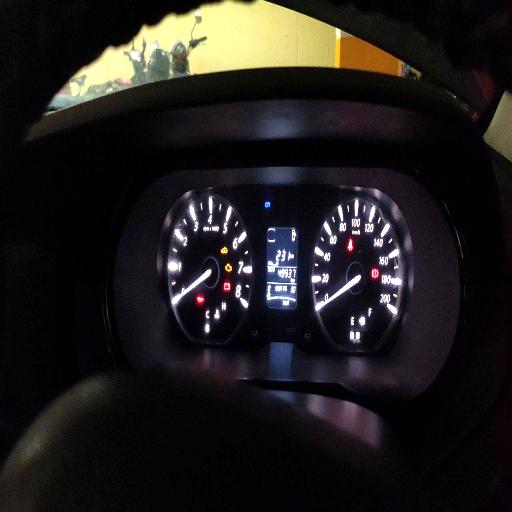belt: (347, 238, 353, 251)
brake_system_fault: (372, 268, 378, 278)
check_engine: (225, 263, 232, 272)
oil: (197, 296, 203, 303)
tachometer: (168, 193, 253, 336)
vehicle_charging: (224, 282, 230, 290)
